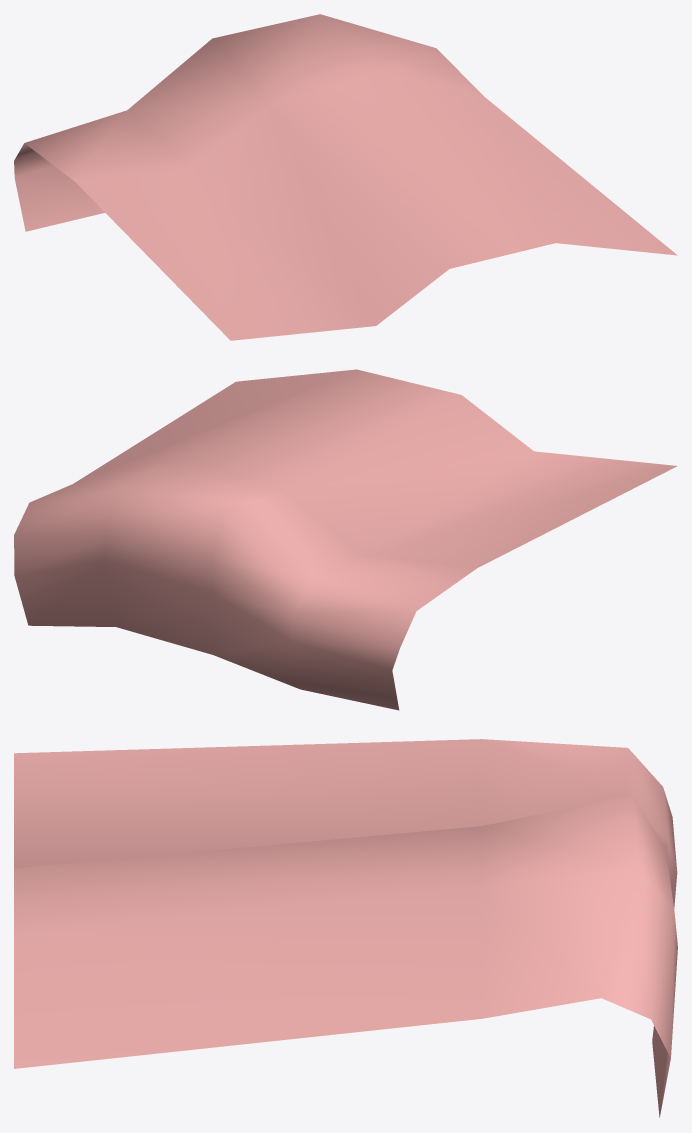
3 renders of one model, top to bottom at view 1: azimuth 30°, elevation 25°; view 2: azimuth 150°, elevation 25°; view 3: azimuth 270°, elevation 25°, orthographic. The views are drawn at different scales.
Parts seen in each view (by area): view 1: Object12; view 2: Object12; view 3: Object12.
Boxes of the visible parts, x1,y1,x2,y2 form: Object12: (14, 14, 677, 340); Object12: (14, 369, 677, 710); Object12: (14, 739, 677, 1117).
Size of the model in its own units: 27398 by 9105 by 27012.
